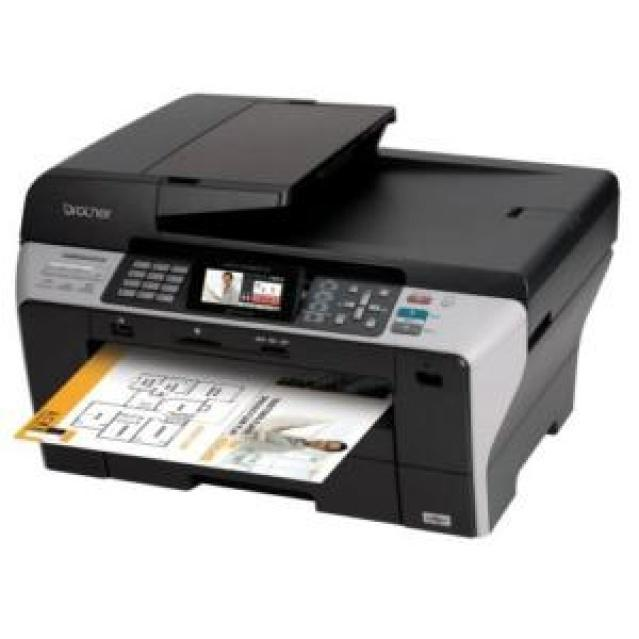Printer: (13, 91, 620, 538)
